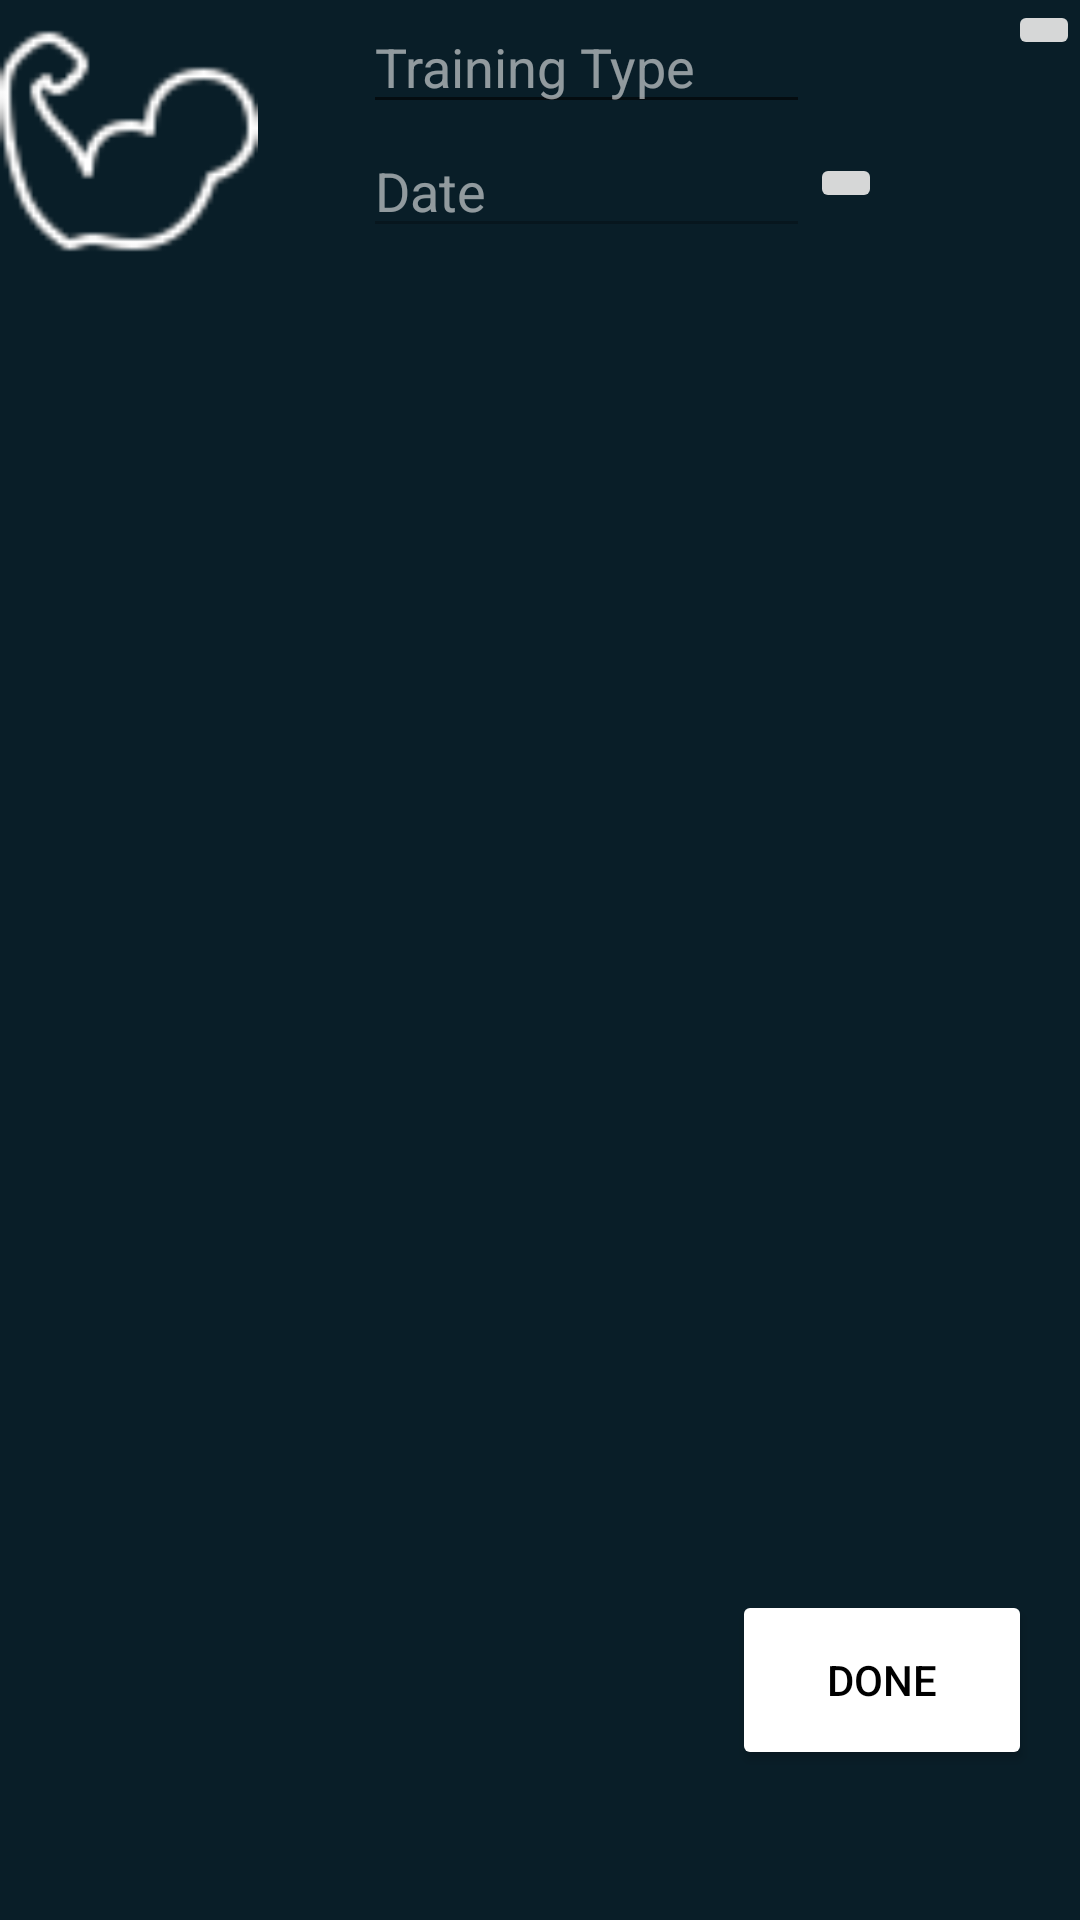

Screen size 1080×1920. Icon name, then its box in pixels as (x1, y1, x2, y2):
muscle: (0, 31, 258, 251)
